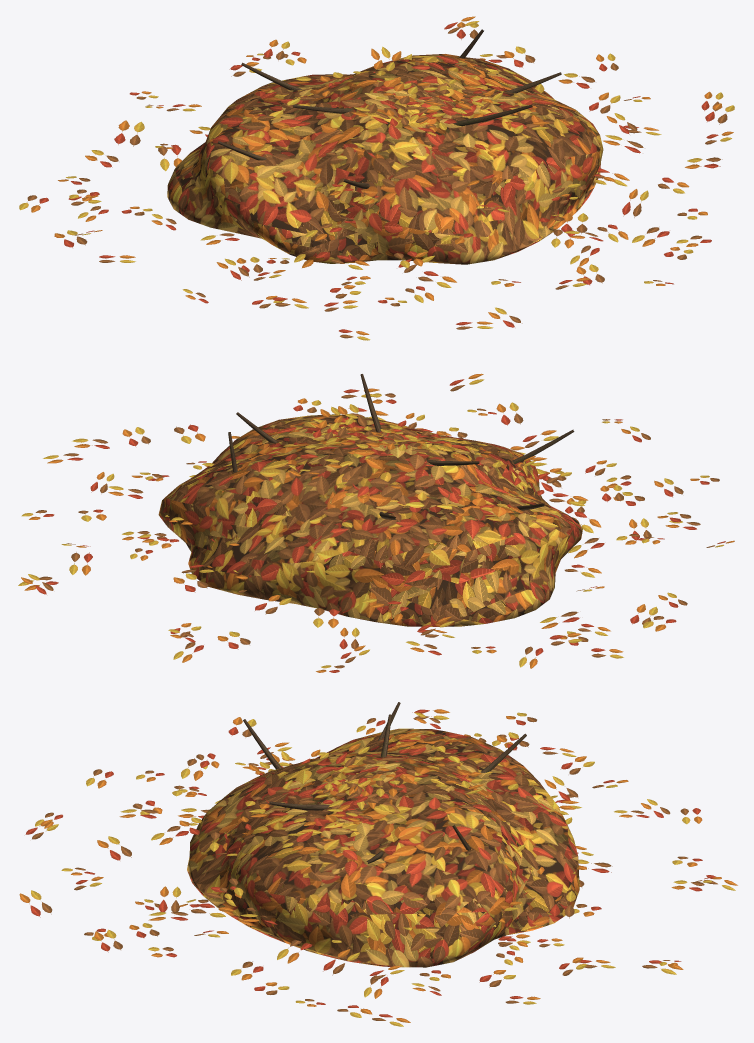
The model's file is monton_hojas.gltf.
The picture shows the model from 3 angles, top to bottom: view 1: azimuth 30°, elevation 25°; view 2: azimuth 150°, elevation 25°; view 3: azimuth 270°, elevation 25°; orthographic projection.
Parts seen in each view (by area): view 1: monton_hojas; view 2: monton_hojas; view 3: monton_hojas.
Part boxes in pixels (bbox=[...]): monton_hojas: bbox=[19, 16, 734, 340]; monton_hojas: bbox=[18, 373, 734, 672]; monton_hojas: bbox=[19, 702, 737, 1026].
Bounding box in the file's own units: 4.34 × 0.7125 × 4.14.
3 materials, 3 textured.
